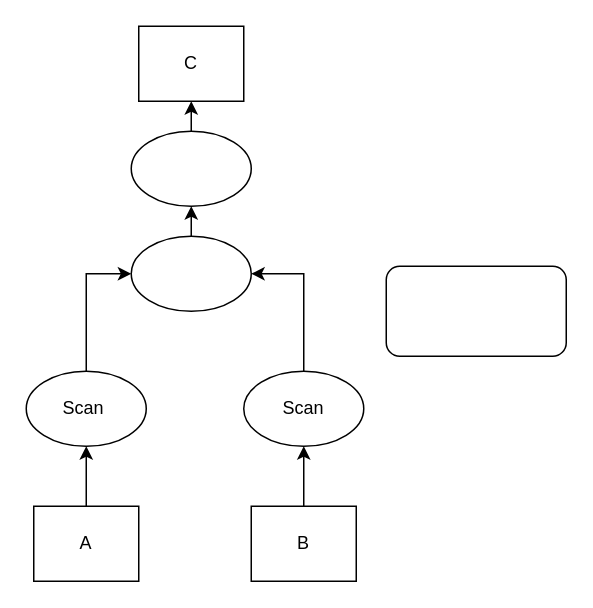
Image size: 593x608. Some labels were removed from this diagram. Each missing label, with the box of its shape:
Join: (130, 235, 251, 311)
K Srikanth 17ETCS00124: (385, 265, 566, 356)
Update: (130, 130, 251, 206)
